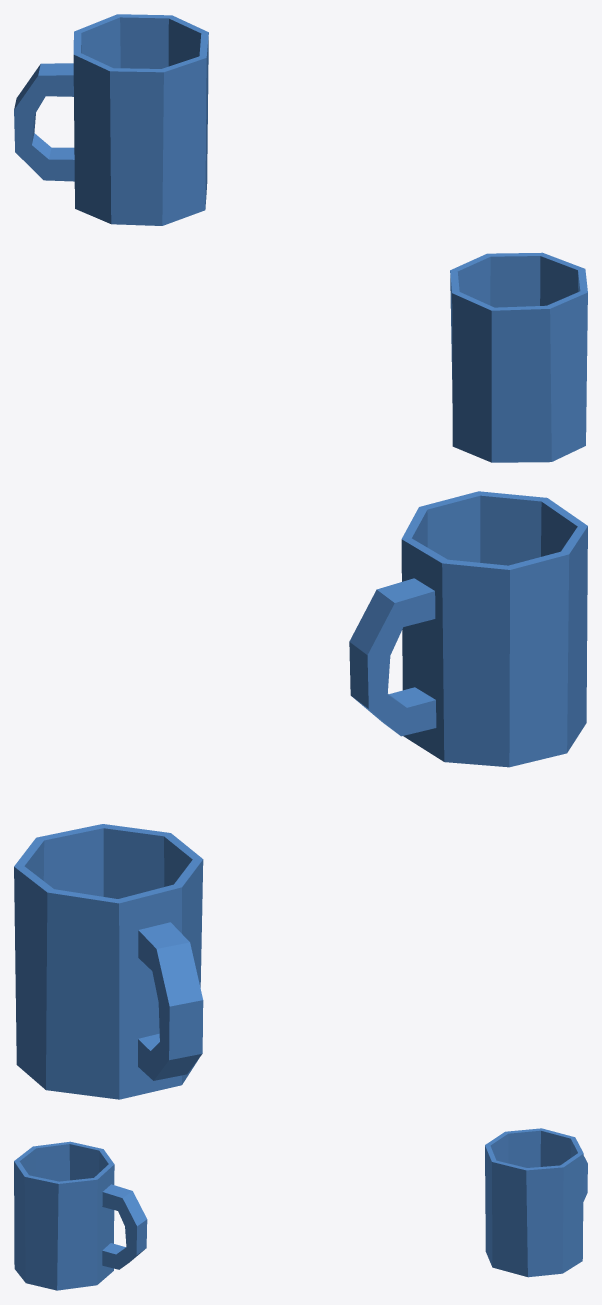
The model's file is Patio_Cups.fbx.
3 renders of one model, top to bottom at view 1: azimuth 30°, elevation 25°; view 2: azimuth 150°, elevation 25°; view 3: azimuth 270°, elevation 25°, orthographic. The views are drawn at different scales.
Visible parts, largest first — view 1: Patio_Cups; view 2: Patio_Cups; view 3: Patio_Cups.
Boxes of the visible parts, bbox=[...] form: Patio_Cups: bbox=[14, 14, 587, 462]; Patio_Cups: bbox=[14, 491, 587, 1099]; Patio_Cups: bbox=[14, 1128, 587, 1290].
Bounding box in the file's own units: 14.86 × 11.02 × 52.59.
